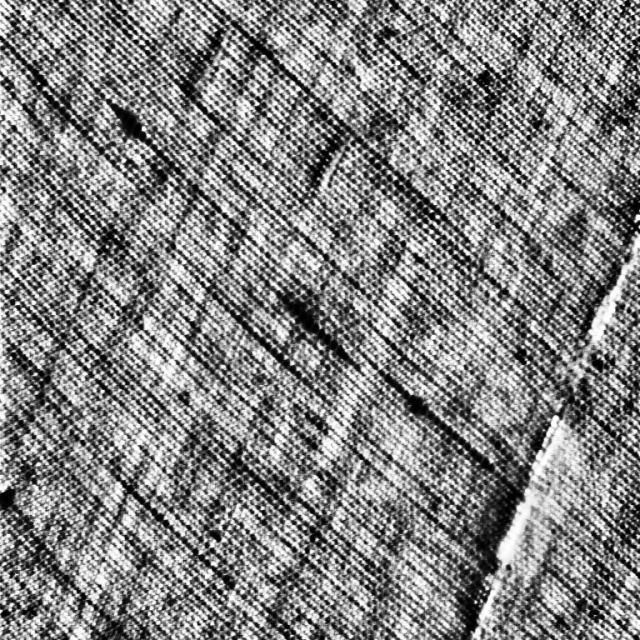Stitch: (456, 230, 639, 635)
